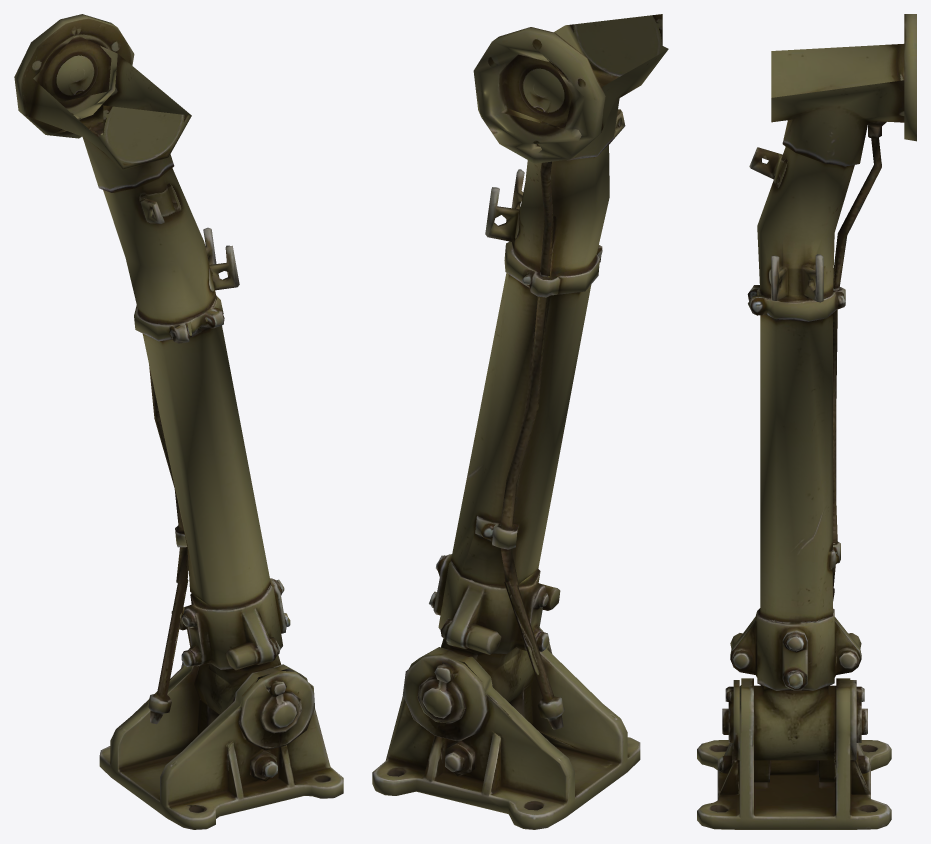
The model's file is column_remesh.glb.
3 views of the same model, side by side, from view 1: azimuth 30°, elevation 25°; view 2: azimuth 150°, elevation 25°; view 3: azimuth 270°, elevation 25° (orthographic). The views are drawn at different scales.
Parts seen in each view (by area): view 1: tripo_node_1b96e277-1b05-4195-9f62-72c4d; view 2: tripo_node_1b96e277-1b05-4195-9f62-72c4d; view 3: tripo_node_1b96e277-1b05-4195-9f62-72c4d.
Part boxes in pixels (box(x1,y1,x2,y2)): tripo_node_1b96e277-1b05-4195-9f62-72c4d: box(14, 14, 343, 829); tripo_node_1b96e277-1b05-4195-9f62-72c4d: box(372, 14, 668, 829); tripo_node_1b96e277-1b05-4195-9f62-72c4d: box(697, 14, 916, 829).
Bounding box in the file's own units: 0.3209 × 0.9961 × 0.272.
Materials: 1 (1 with a texture image).
